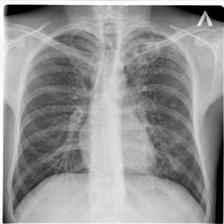tuberculosis: (5, 22, 212, 218)
